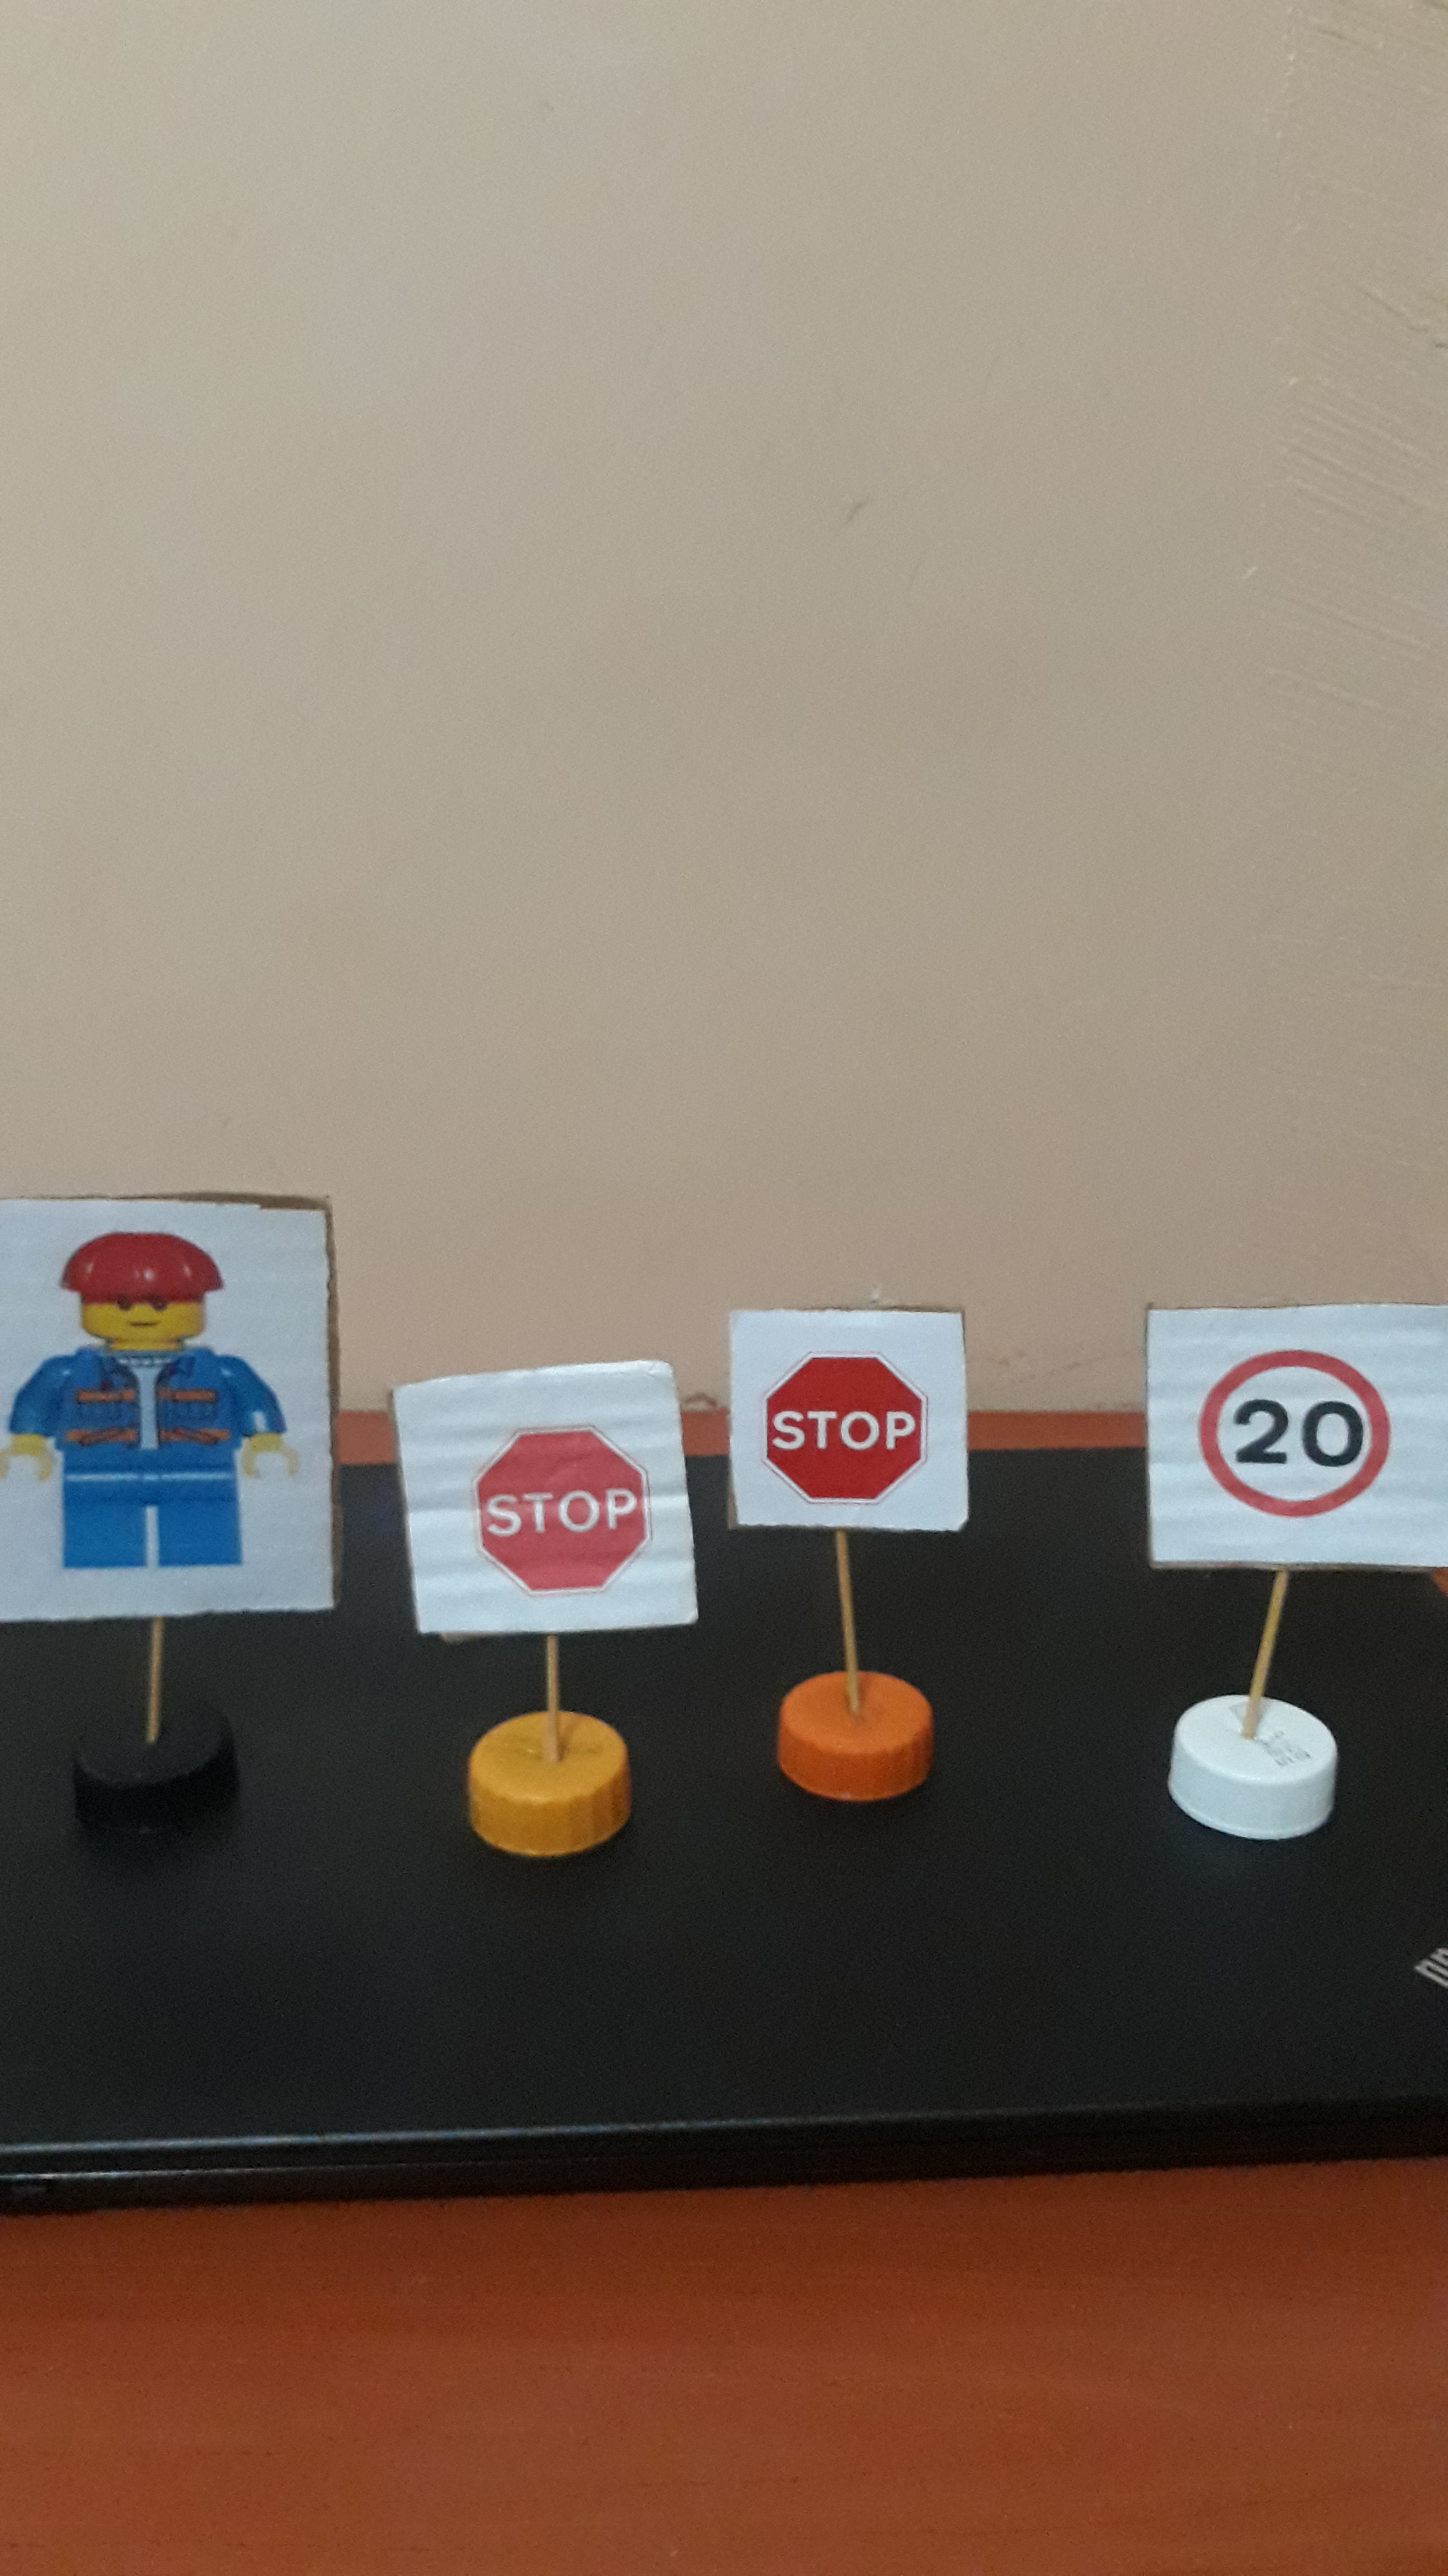20 kph: (1165, 1295, 1430, 1553)
pedestrian: (2, 1206, 315, 1608)
stop: (428, 1382, 665, 1619), (748, 1323, 954, 1526)
